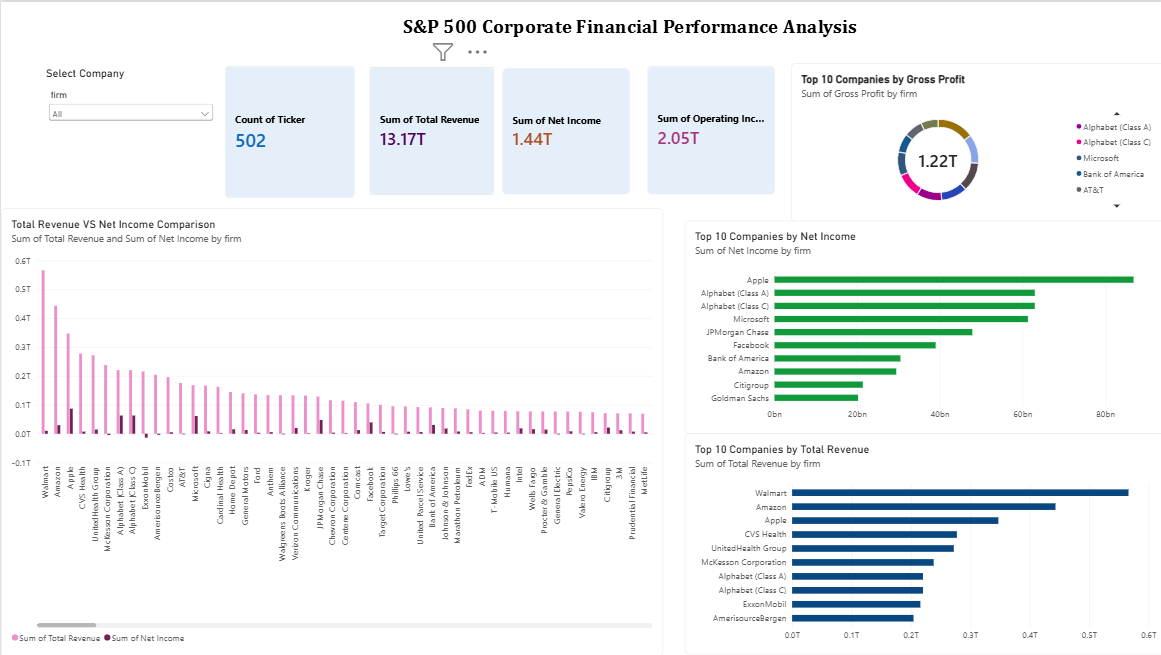

This screenshot's page, from the dashboard's own definition file:
{"tool":"powerbi","page":{"name":"Page 1","canvas":[1920,1080],"ordinal":0},"visuals":[{"type":"cardVisual","fields":{"Data":["Count(financial data sp500 companies.Ticker)"]},"box":[368,106,214,218],"z":1000},{"type":"cardVisual","fields":{"Data":["Sum(financial data sp500 companies.Net Income)"]},"box":[826,110,210,208],"z":2000},{"type":"cardVisual","fields":{"Data":["Sum(financial data sp500 companies.Operating Income)"]},"box":[1064,106,210,212],"z":3000},{"type":"clusteredBarChart","title":"Top 10 Companies by Total Revenue","fields":{"Category":["financial data sp500 companies.firm"],"Y":["Sum(financial data sp500 companies.Total Revenue)"]},"box":[1126,710,794,364],"z":4000},{"type":"clusteredBarChart","title":"Top 10 Companies by  Net Income","fields":{"Category":["financial data sp500 companies.firm"],"Y":["Sum(financial data sp500 companies.Net Income)"]},"box":[1126,360,794,350],"z":5000},{"type":"clusteredColumnChart","title":" Total Revenue VS Net Income Comparison","fields":{"Category":["financial data sp500 companies.firm"],"Y":["Sum(financial data sp500 companies.Total Revenue)","Sum(financial data sp500 companies.Net Income)"]},"box":[0,340,1090,738],"z":7000},{"type":"slicer","title":"Select Company ","fields":{"Values":["financial data sp500 companies.firm"]},"box":[74,108,280,210],"z":8000},{"type":"textbox","box":[150.3,20.6,1770.2,119.4],"z":9000},{"type":"cardVisual","fields":{"Data":["Sum(financial data sp500 companies.Total Revenue)"]},"box":[608,108,204,210],"z":9001},{"type":"donutChart","title":"Top 10 Companies by  Gross Profit","fields":{"Category":["financial data sp500 companies.firm"],"Y":["Sum(financial data sp500 companies.Gross Profit)"]},"box":[1300,100,620,260],"z":9002}]}

Visuals, with their boxes in screenshot pixels (x1, y1, x2, y2), scaled from the page's 1920x1080 canvas onto the 1161x655 screenshot:
cardVisual - Count(financial data sp500 companies.Ticker): (223, 64, 352, 196)
cardVisual - Sum(financial data sp500 companies.Net Income): (499, 67, 626, 193)
cardVisual - Sum(financial data sp500 companies.Operating Income): (643, 64, 770, 193)
"Top 10 Companies by Total Revenue" clusteredBarChart: (681, 431, 1160, 651)
"Top 10 Companies by  Net Income" clusteredBarChart: (681, 218, 1160, 431)
" Total Revenue VS Net Income Comparison" clusteredColumnChart: (0, 206, 659, 654)
"Select Company " slicer: (45, 66, 214, 193)
textbox: (91, 12, 1160, 85)
cardVisual - Sum(financial data sp500 companies.Total Revenue): (368, 66, 491, 193)
"Top 10 Companies by  Gross Profit" donutChart: (786, 61, 1160, 218)
